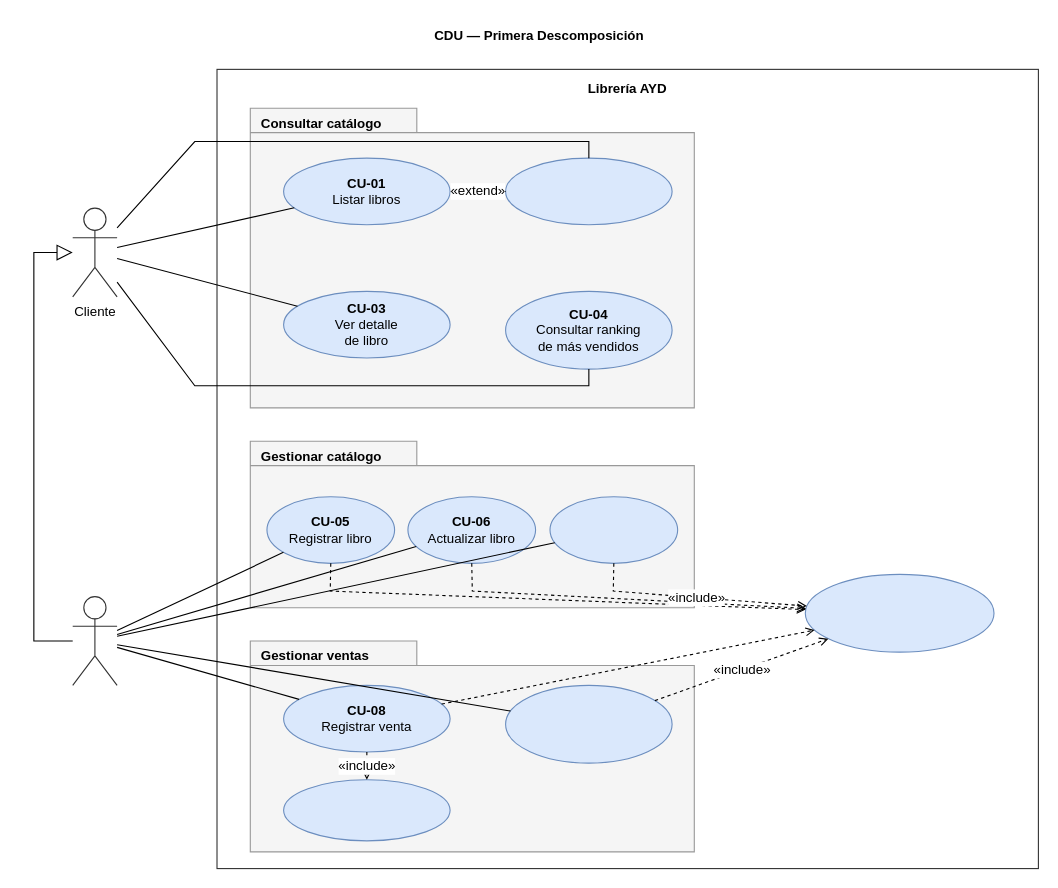
Image size: 1058x888. Some labels were removed from this diagram. Here are the shapes that lost their labels. From the top down, the centre of each, then its label:
At (x=588, y=191): "CU-02 Buscar y filtrar libros".
At (x=613, y=529): "CU-07 Eliminar libro".
At (x=899, y=612): "Autenticar administrador".
At (x=94, y=640): "Administrador".
At (x=588, y=723): "CU-09 Consultar historial de ventas".
At (x=366, y=810): "Validar existencias".
